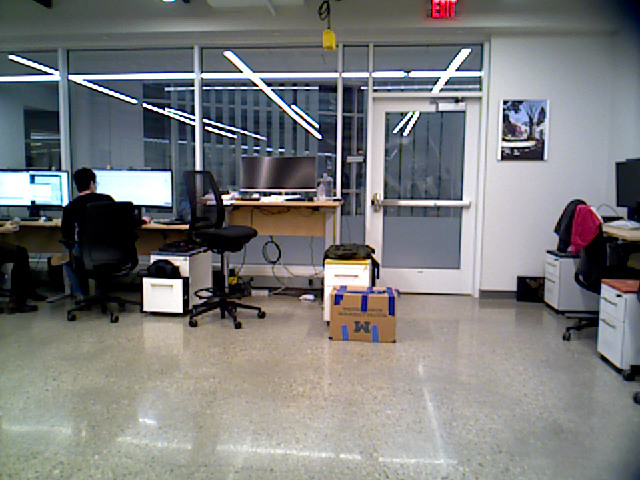painting3: (499, 99, 549, 162)
